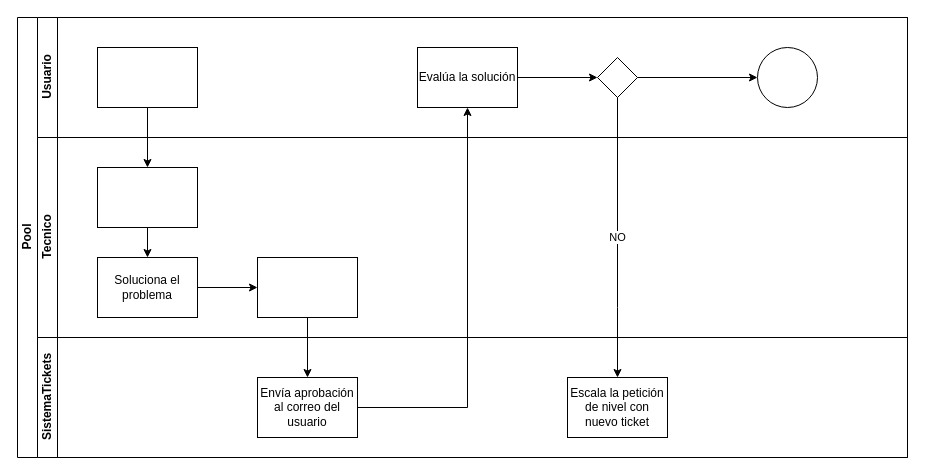
Some shapes in this 925 by 475 pixel diagram are drawn without their labels. The shapes that lost their labels are listed below. From the top down, each one's centre as x and y in pixels, then its label:
At point 147,77: "Solicita soport técnico".
At point 787,77: "FIN".
At point 147,197: "Abre el ticket de soporte".
At point 307,287: "Registra solución y cierra el ticket".
